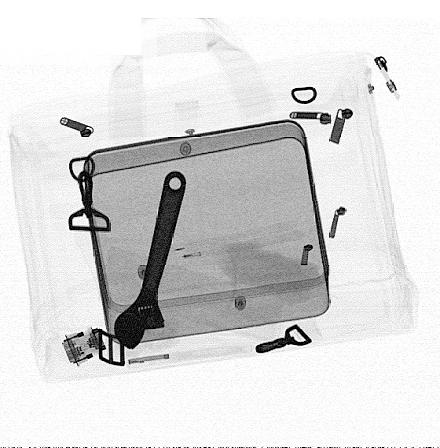Wrench: (115, 169, 187, 350)
